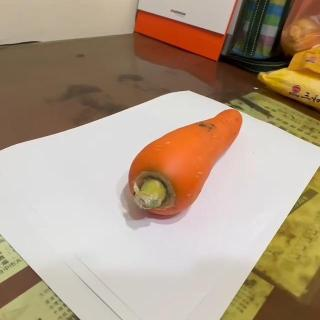carrot: (128, 109, 243, 218)
